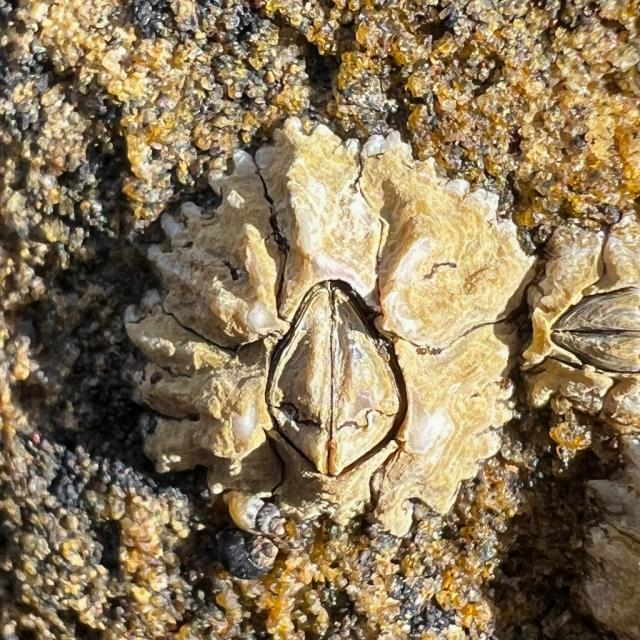barnacles: (130, 134, 526, 548), (530, 192, 640, 479)
